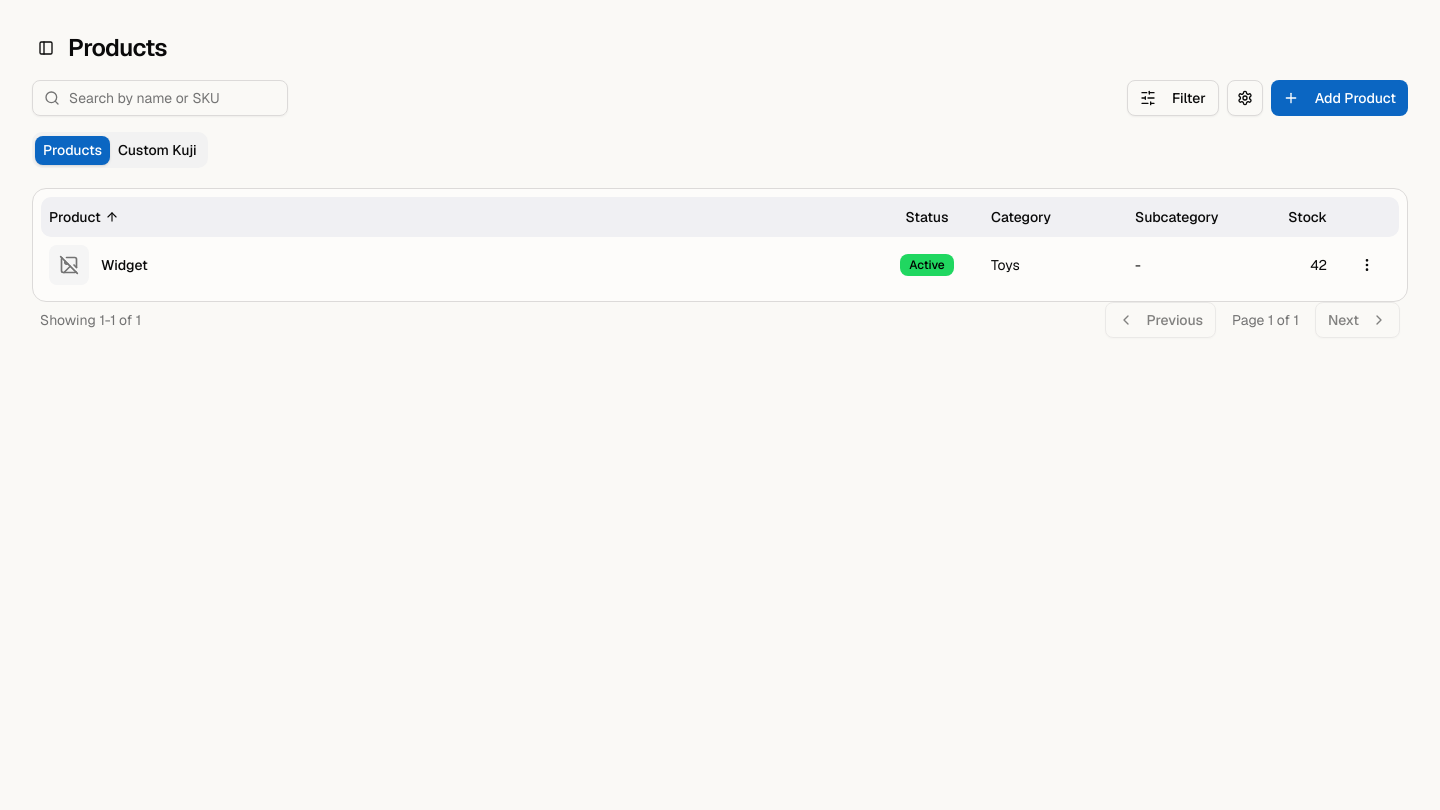
Scenario: ProductsPage (site-scoped, phase-5d T-5) › shows Edit for a role with PRODUCTS_UPDATE and reveals cost/MSRP fields per permission
Click the text "Widget" at (124, 265), box 101,255 -> 148,275
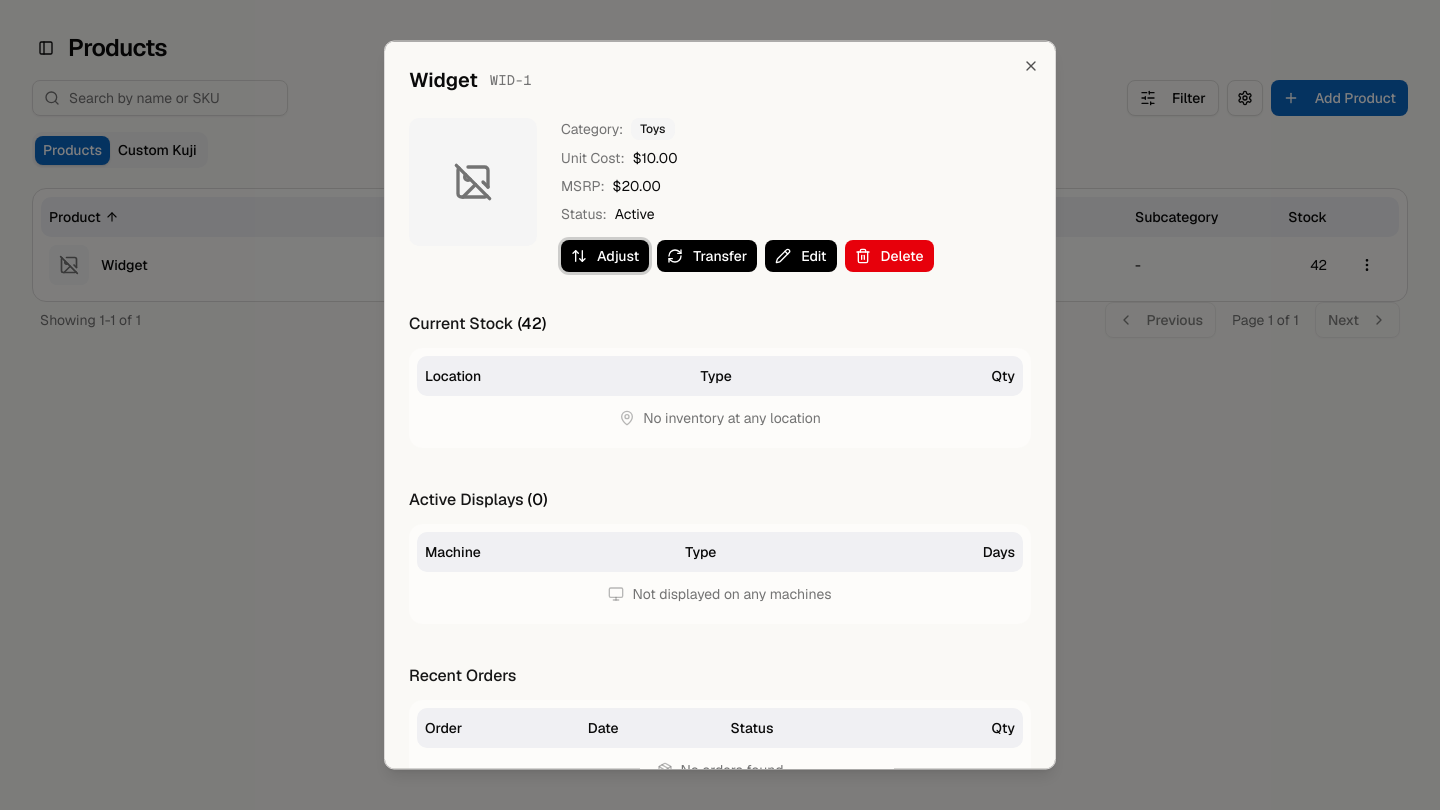
Expected: the button "Edit" is shown, 765,240 -> 836,272
Expected: the text "$10.00" is shown, 633,148 -> 678,168
Expected: the text "$20.00" is shown, 613,176 -> 661,196
